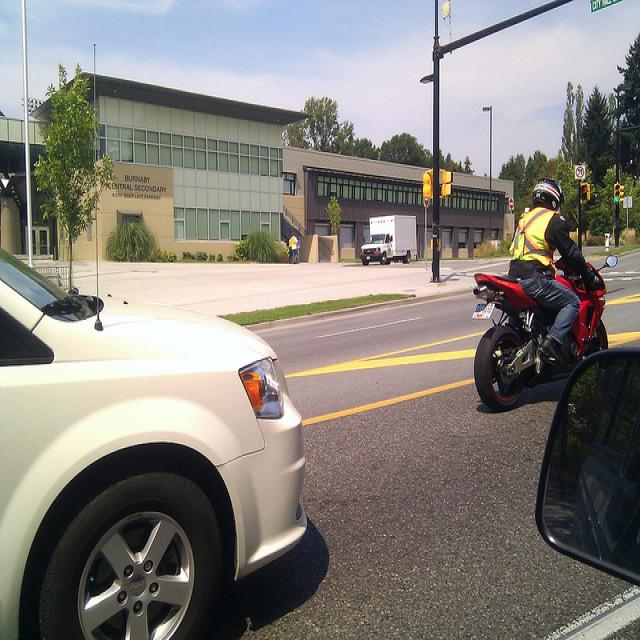motor: (474, 279, 562, 420)
